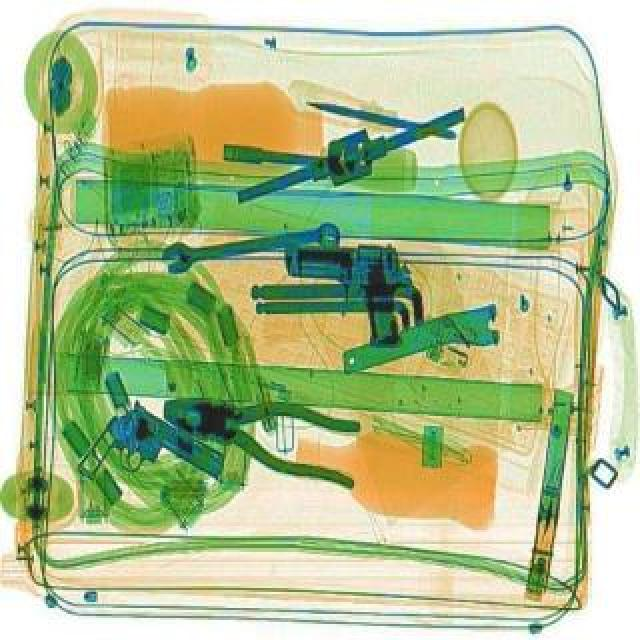gun: (74, 390, 238, 526), (282, 238, 402, 346)
scissors: (160, 216, 344, 272)
wrench: (152, 372, 372, 490)
